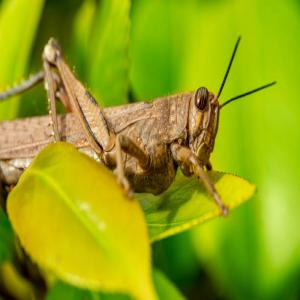locust: (1, 68, 265, 201)
